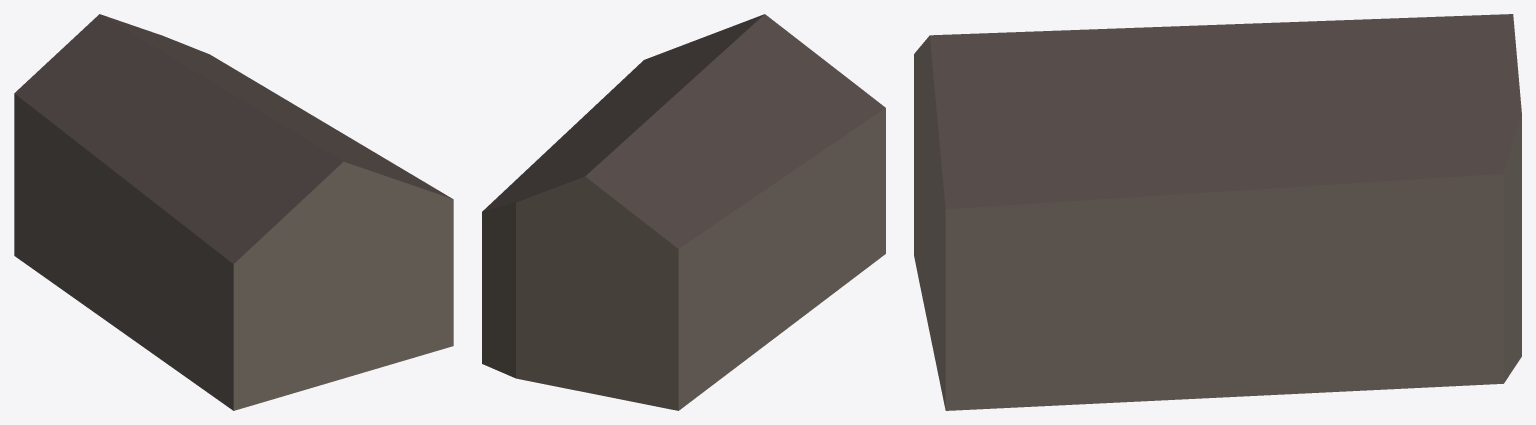
3 renders of one model, left to right at view 1: azimuth 30°, elevation 25°; view 2: azimuth 150°, elevation 25°; view 3: azimuth 270°, elevation 25°, orthographic. The views are drawn at different scales.
Parts seen in each view (by area): view 1: HP-w1512965888; view 2: HP-w1512965888; view 3: HP-w1512965888.
Boxes of the visible parts, x1,y1,x2,y2 form: HP-w1512965888: (14, 14, 453, 410); HP-w1512965888: (482, 14, 885, 410); HP-w1512965888: (914, 14, 1521, 410).
Size of the model in its own units: 10.15 by 8.87 by 16.4.
